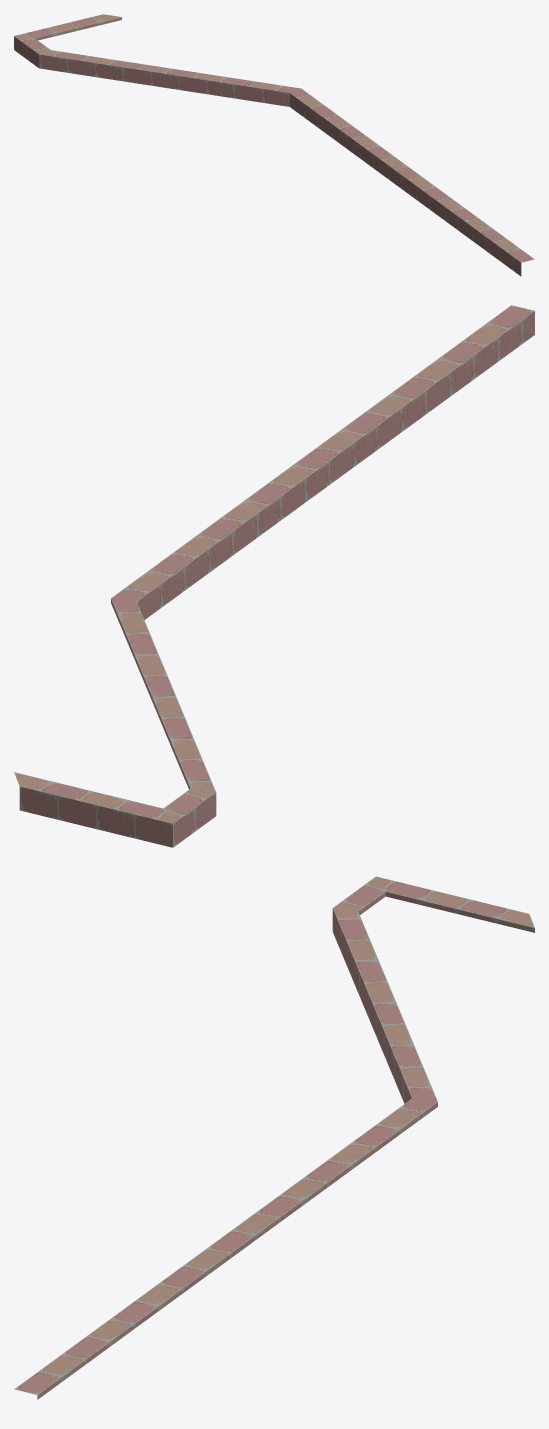
Rendered from kd_stage_135ded_3_4_exterior.glb.
3 renders of one model, top to bottom at view 1: azimuth 30°, elevation 25°; view 2: azimuth 150°, elevation 25°; view 3: azimuth 330°, elevation 25°, orthographic. The views are drawn at different scales.
Visible parts, largest first — view 1: kd_stage_135ded_3_4_exterior; view 2: kd_stage_135ded_3_4_exterior; view 3: kd_stage_135ded_3_4_exterior.
Boxes of the visible parts, x1,y1,x2,y2 form: kd_stage_135ded_3_4_exterior: (14,14,534,276); kd_stage_135ded_3_4_exterior: (14,305,534,847); kd_stage_135ded_3_4_exterior: (14,876,534,1399).
Size of the model in its own units: 1.21 by 0.1 by 4.65.
Materials: 1 (1 with a texture image).
